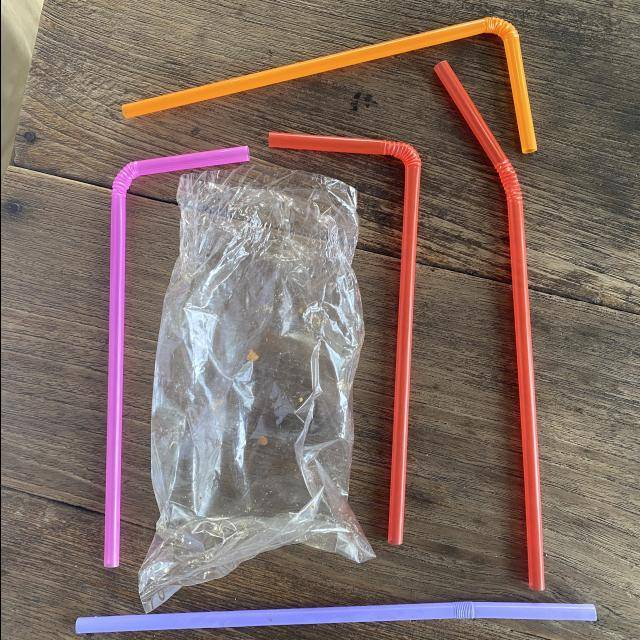plastik: (138, 165, 374, 611), (268, 132, 421, 546), (104, 146, 249, 567), (433, 60, 543, 591), (121, 17, 536, 153), (74, 601, 595, 633)
